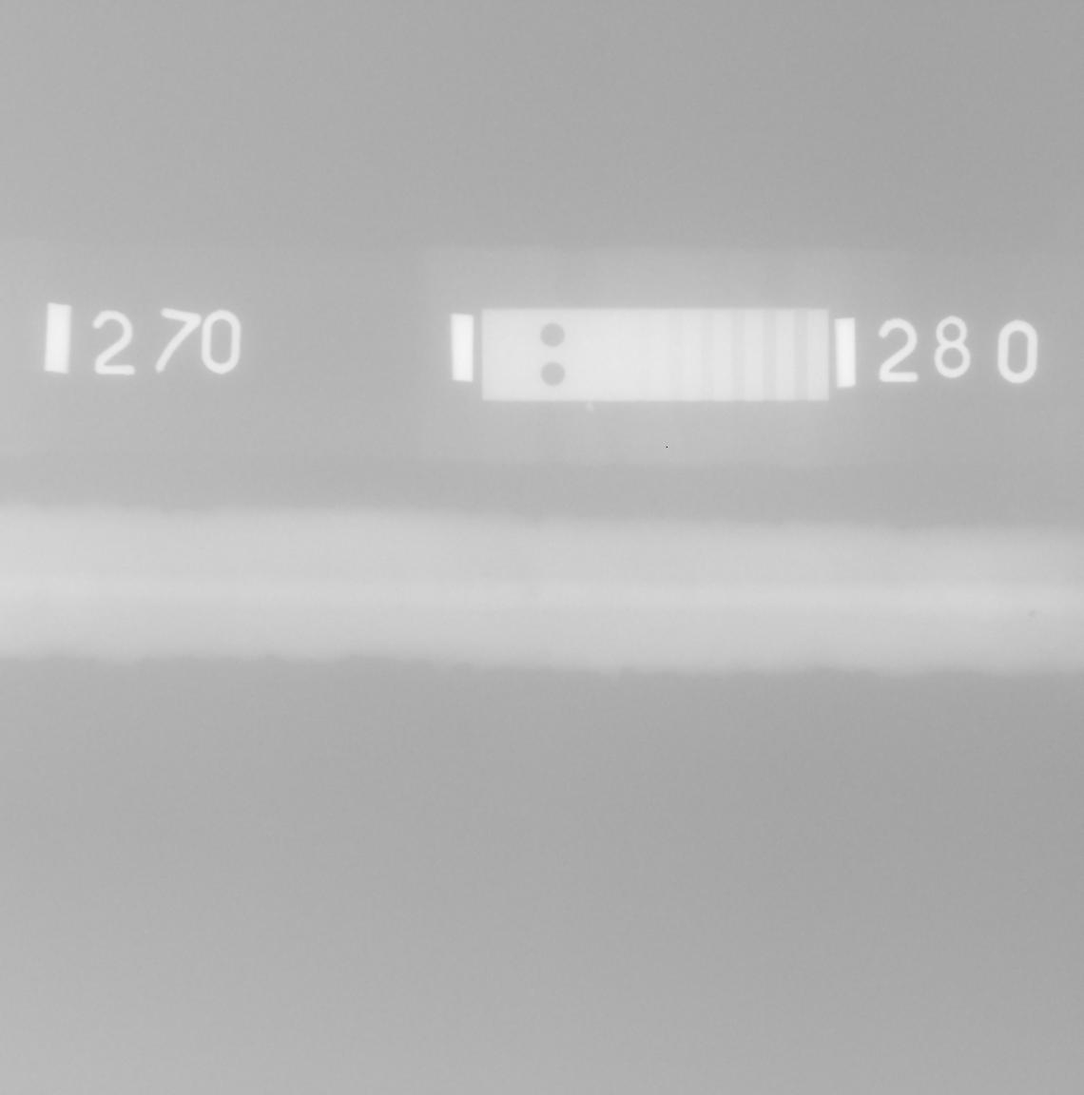Pore/Porosity: (1029, 610, 1037, 618)
Reference Standard 2: (481, 307, 831, 402)
